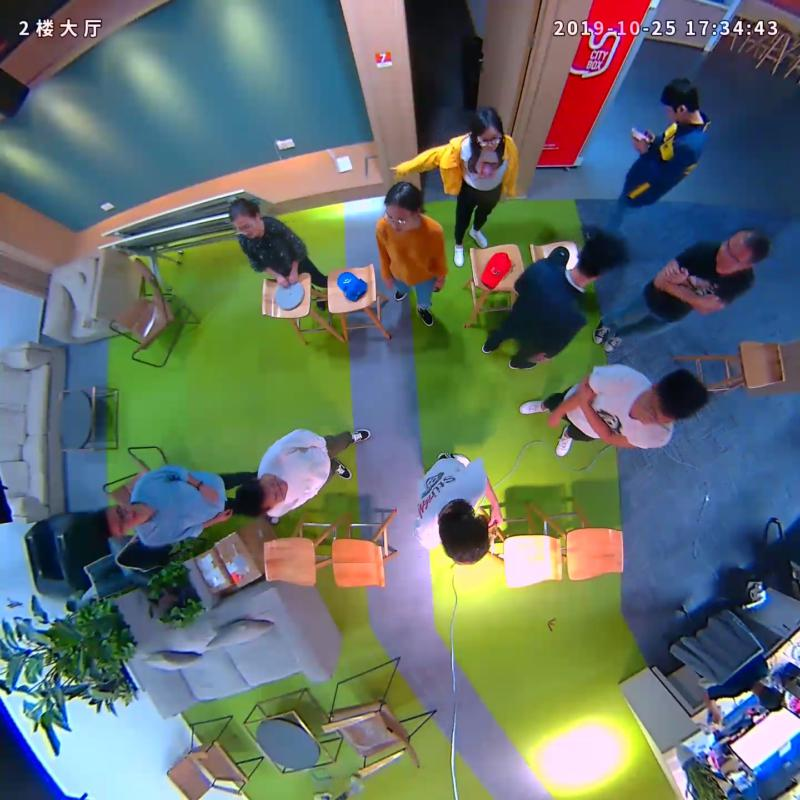head: (631, 367, 715, 433), (432, 500, 496, 567), (568, 228, 631, 283), (712, 221, 771, 279), (223, 468, 287, 518), (653, 72, 710, 127), (87, 498, 149, 543), (464, 104, 508, 160), (377, 180, 427, 229), (224, 194, 268, 245)
